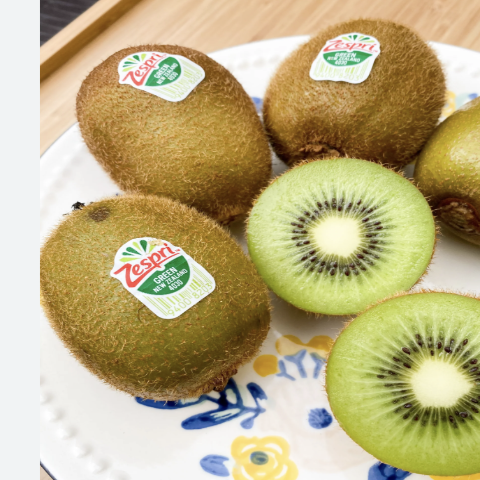kiwi: (28, 178, 299, 399), (77, 24, 268, 235), (251, 14, 465, 178)
